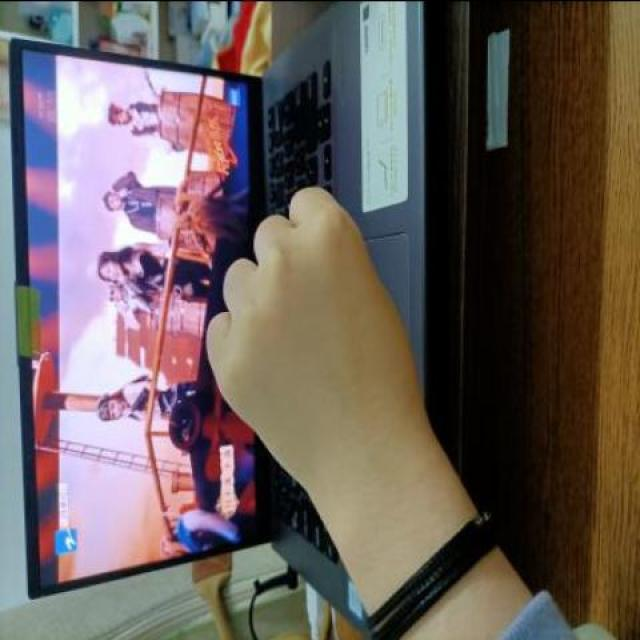fist: (201, 178, 422, 527)
